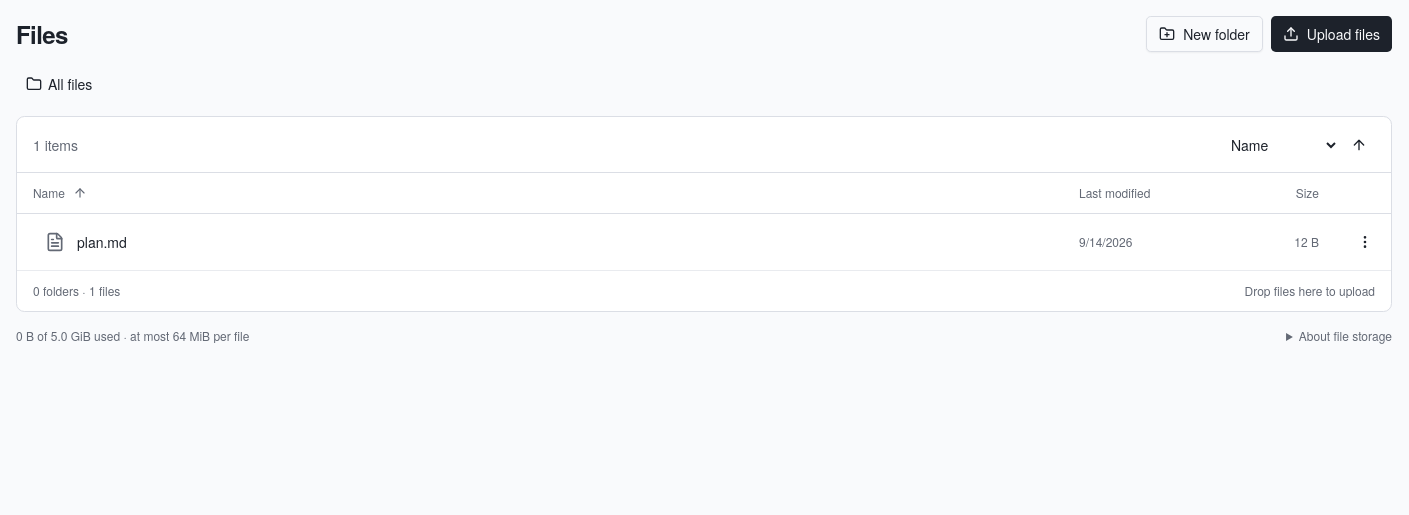
Test: Files › deletes without asking, and says where it went
Click the button named "Actions for plan.md". click: click(1365, 242)
box: left=1347, top=224, right=1383, bottom=260
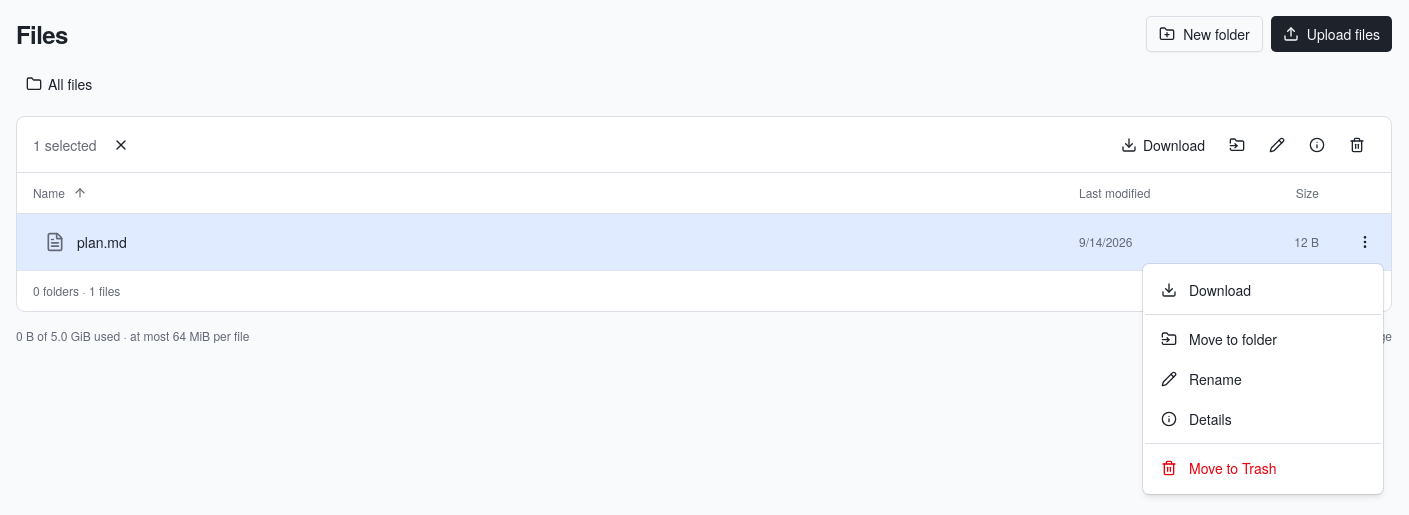
Click the menu item with aria-label "Delete plan.md". click: click(1219, 468)
box: left=1161, top=458, right=1276, bottom=478
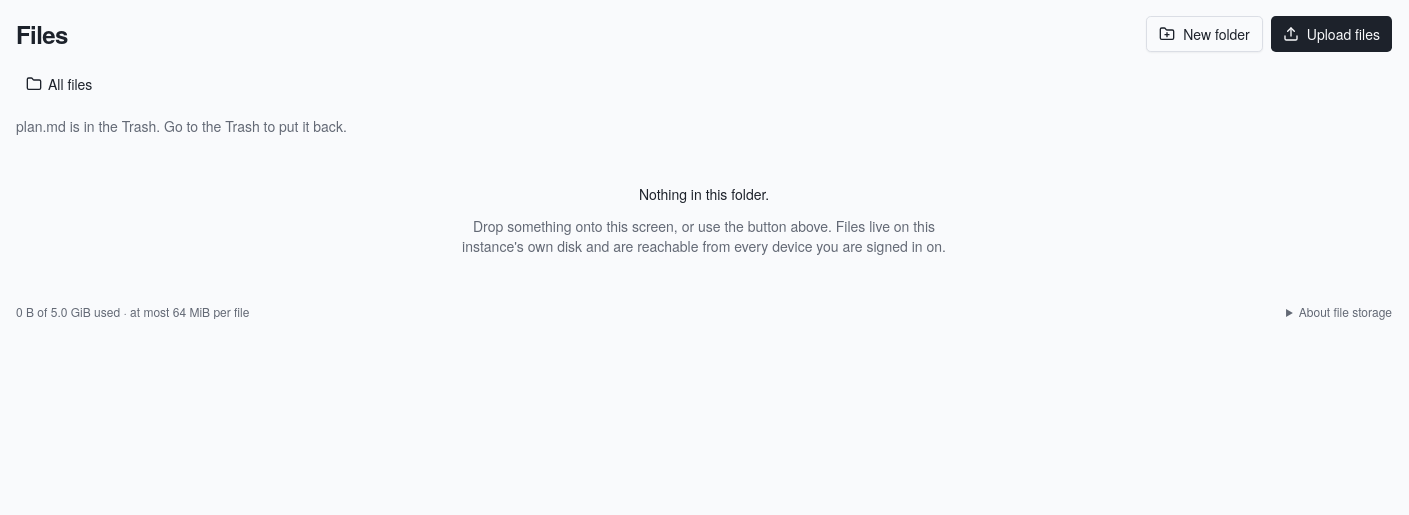
Expected: the text "plan.md is in the Trash. Go to the Trash to put it back." is shown, left=16, top=116, right=347, bottom=136
